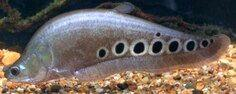Knifefish: (4, 3, 232, 87)
